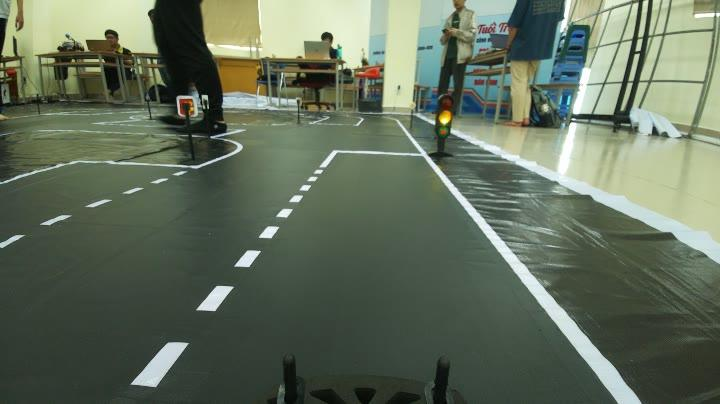trafficlight: (420, 86, 460, 168)
